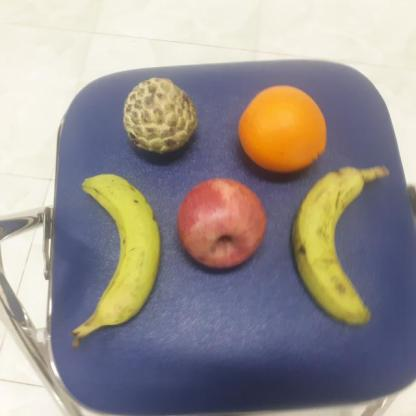annona: (122, 74, 201, 154)
apple: (175, 177, 269, 271)
banana: (287, 164, 375, 326), (76, 169, 163, 328)
orange: (236, 81, 328, 173)
